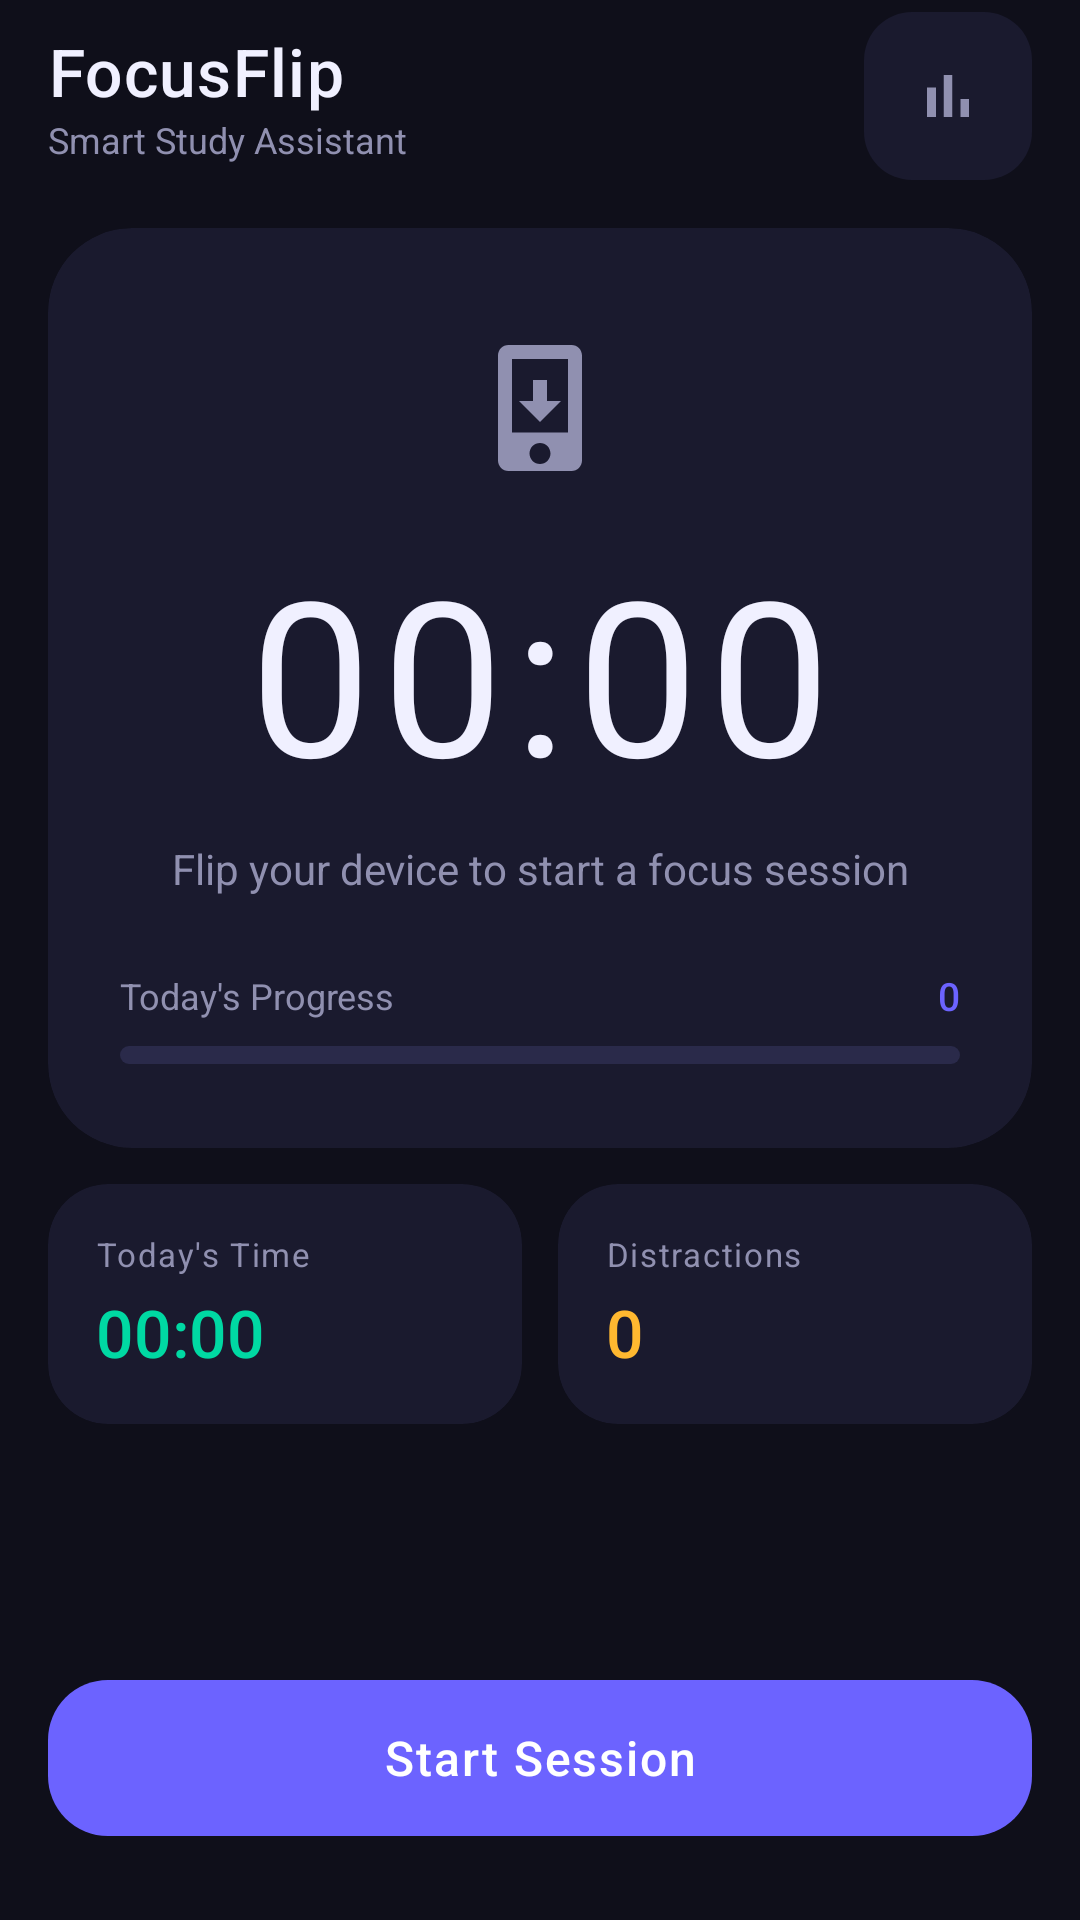

Named icons in this screenshot (1080x1920) and their bounding boxes, (x1, y1, x2, y2):
phone down: (498, 345, 582, 471)
Statistics: (864, 12, 1032, 180)
